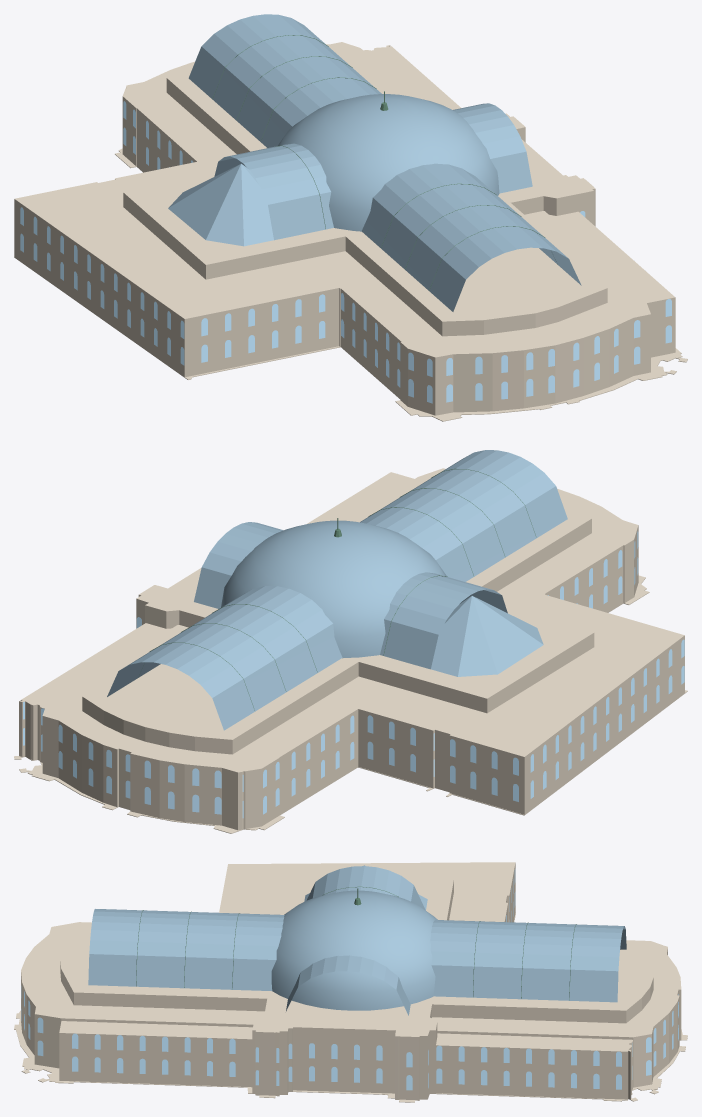
File: detail.glb
3 views of the same model, one above another, from view 1: azimuth 30°, elevation 25°; view 2: azimuth 150°, elevation 25°; view 3: azimuth 270°, elevation 25° (orthographic). The views are drawn at different scales.
Visible parts, largest first — view 1: stone, glass, window, metal; view 2: stone, glass, window, metal; view 3: stone, glass, window, metal.
Part boxes in pixels (x1,y1,x2,y2): stone: (14,42,687,421); glass: (168,14,581,311); window: (20,101,671,403); metal: (212,35,557,290); stone: (14,468,687,833); glass: (107,450,567,730); window: (23,531,684,818); metal: (138,468,536,710); stone: (14,862,687,1102); glass: (88,865,626,1015); window: (21,869,678,1090); metal: (136,886,576,1000).
Size of the model in its own units: 160 by 56 by 240.
